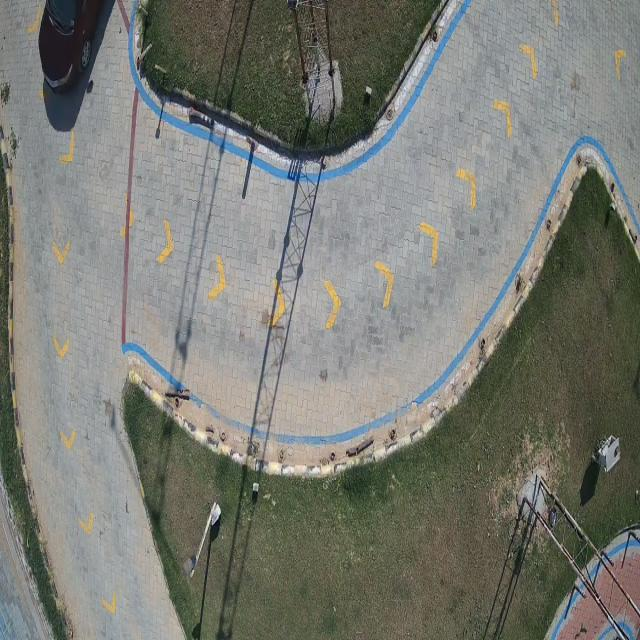car: (39, 0, 102, 91)
